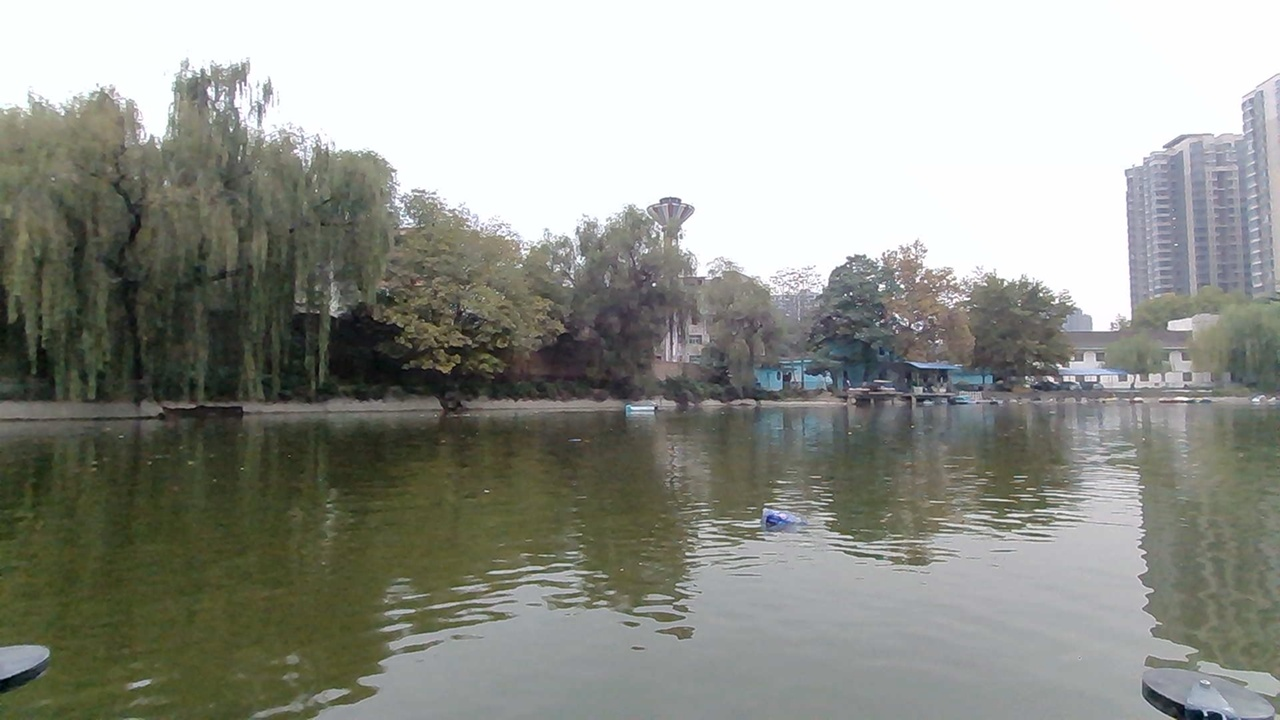bottle: (760, 505, 805, 539)
